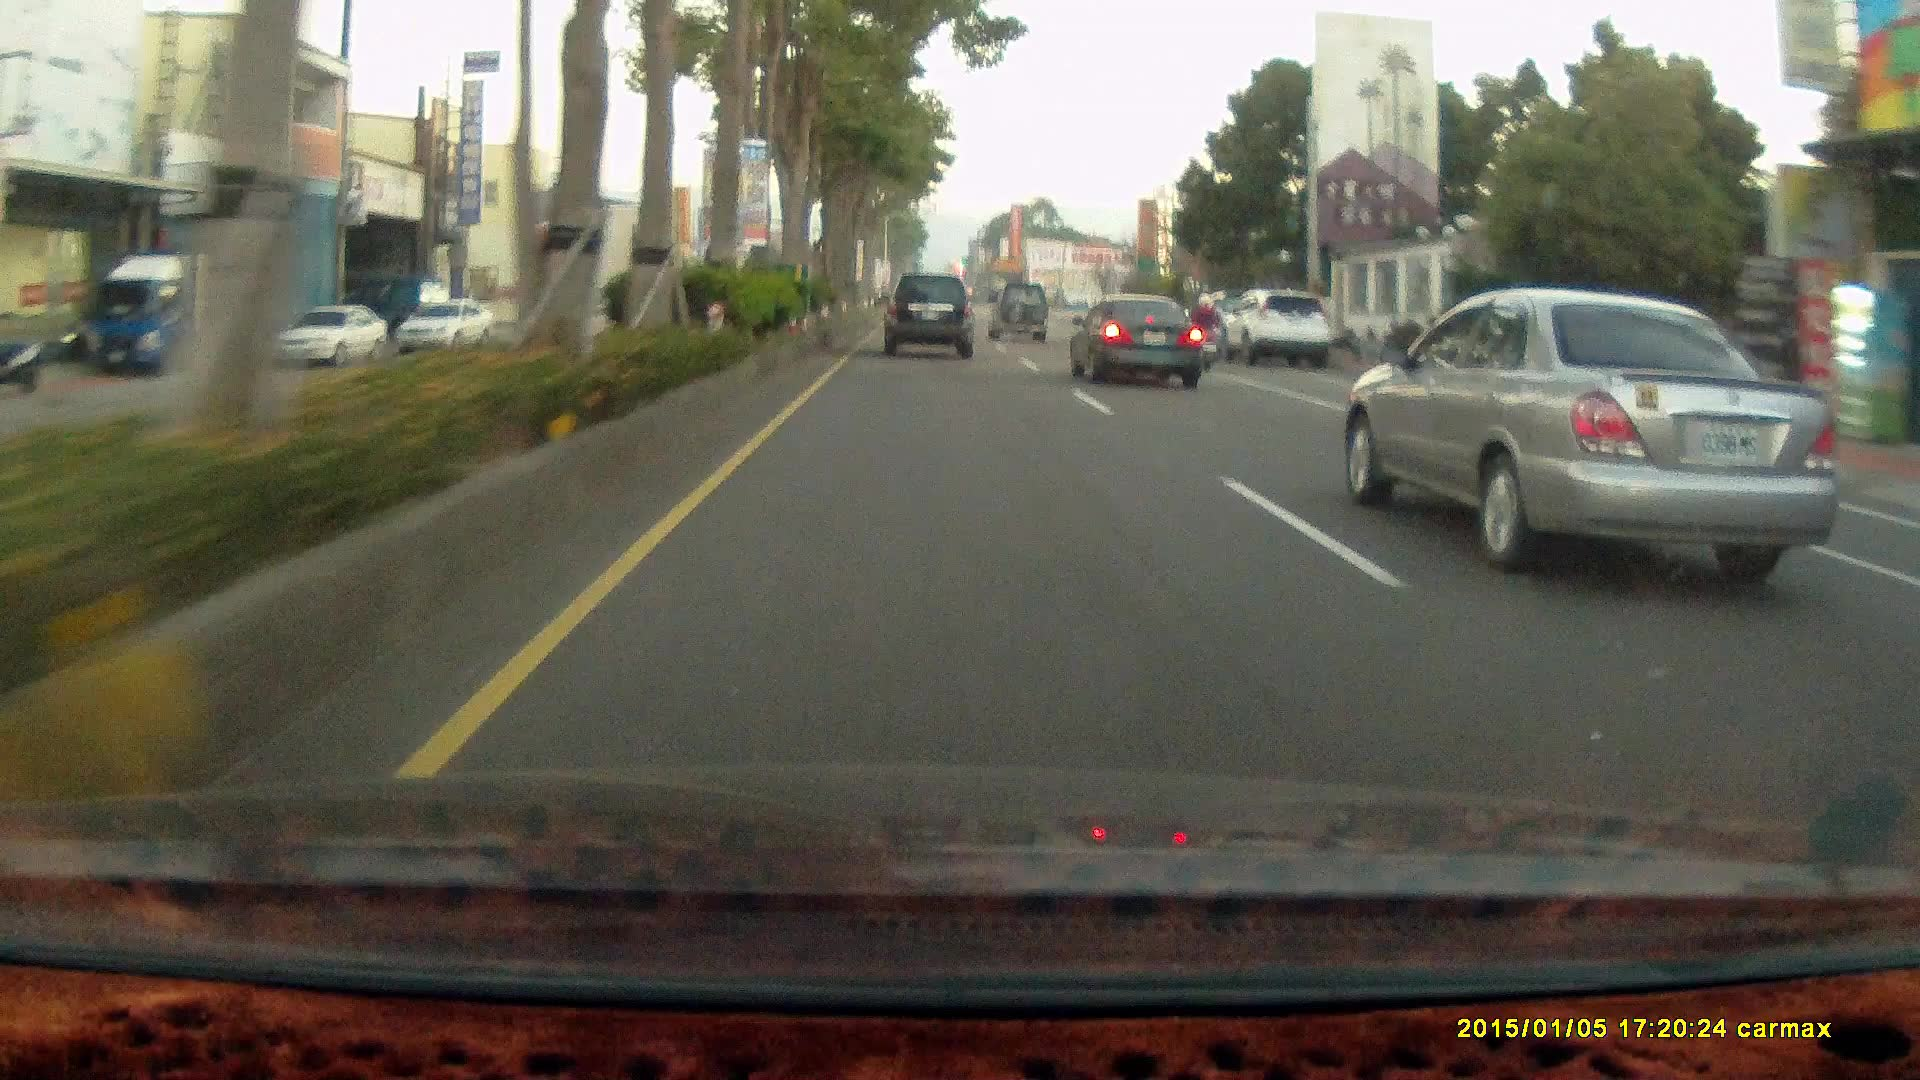rider: (1182, 290, 1220, 368)
vehicle: (1338, 285, 1839, 593), (77, 249, 263, 376), (81, 252, 267, 377), (1069, 291, 1211, 393), (1065, 291, 1204, 386), (1215, 290, 1332, 370), (881, 273, 977, 366), (1231, 290, 1333, 370), (881, 270, 973, 356), (273, 302, 388, 367), (276, 309, 389, 368), (393, 299, 495, 355), (987, 282, 1052, 345), (987, 281, 1050, 342)
